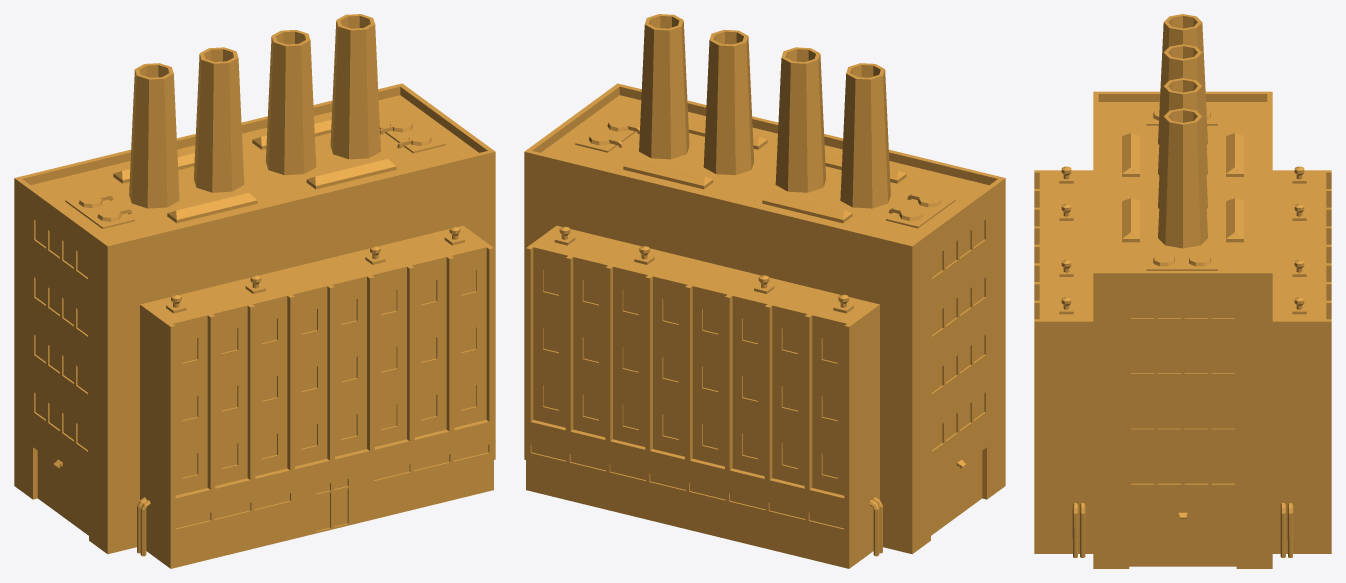
File: industry-factory.fbx
3 renders of one model, left to right at view 1: azimuth 30°, elevation 25°; view 2: azimuth 150°, elevation 25°; view 3: azimuth 270°, elevation 25°, orthographic. The views are drawn at different scales.
Parts seen in each view (by area): view 1: industry-factory; view 2: industry-factory; view 3: industry-factory.
Part boxes in pixels (<box>): industry-factory: <box>14,14,495,568</box>; industry-factory: <box>524,14,1005,568</box>; industry-factory: <box>1034,14,1331,568</box>.
Size of the model in its own units: 24.71 by 25.21 by 16.6.
